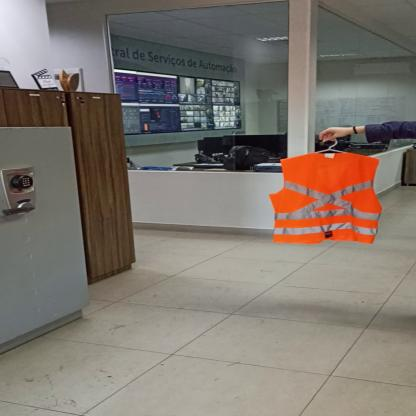colete: (268, 151, 385, 245)
